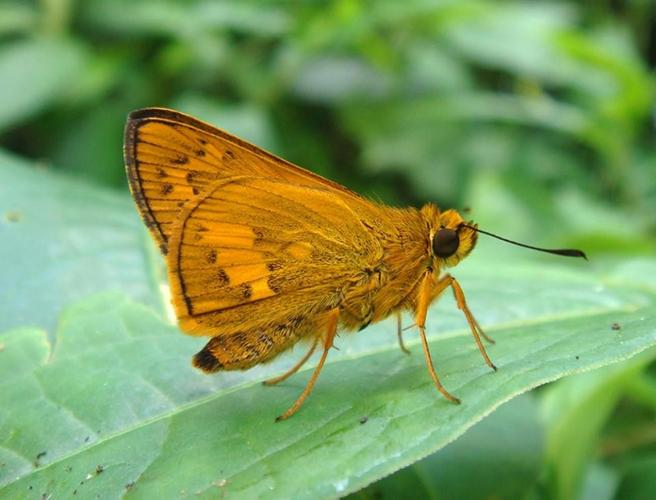Hesperiidae: (121, 101, 593, 425)
